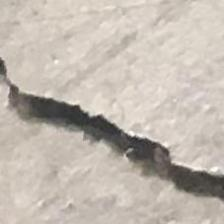Crack: (0, 53, 224, 216)
